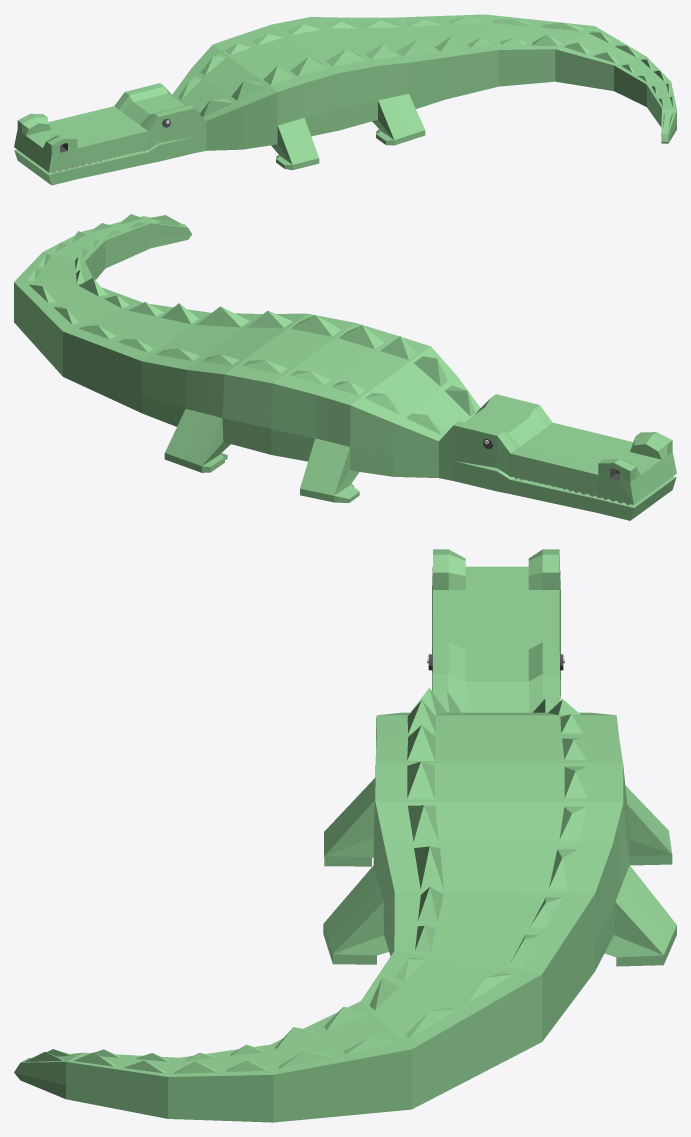
File: Crocodile_01.gltf
The picture shows the model from 3 angles, top to bottom: view 1: azimuth 30°, elevation 25°; view 2: azimuth 150°, elevation 25°; view 3: azimuth 270°, elevation 25°; orthographic projection. The views are drawn at different scales.
Parts seen in each view (by area): view 1: node-0; view 2: node-0; view 3: node-0.
Boxes of the visible parts, <box> form: node-0: <box>14,14,676,185</box>; node-0: <box>14,214,676,520</box>; node-0: <box>14,549,676,1122</box>.
Bounding box in the file's own units: 1279 × 189 × 715.
